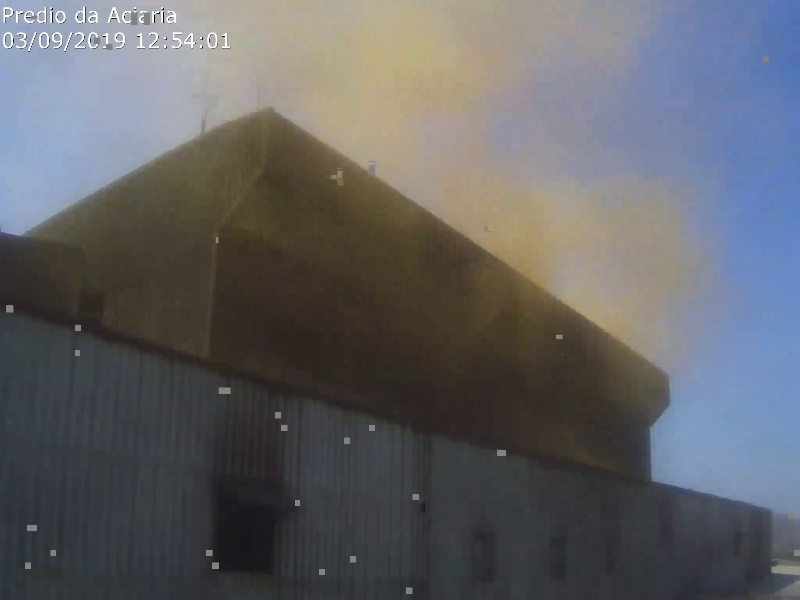Pessimo: (191, 2, 691, 447)
